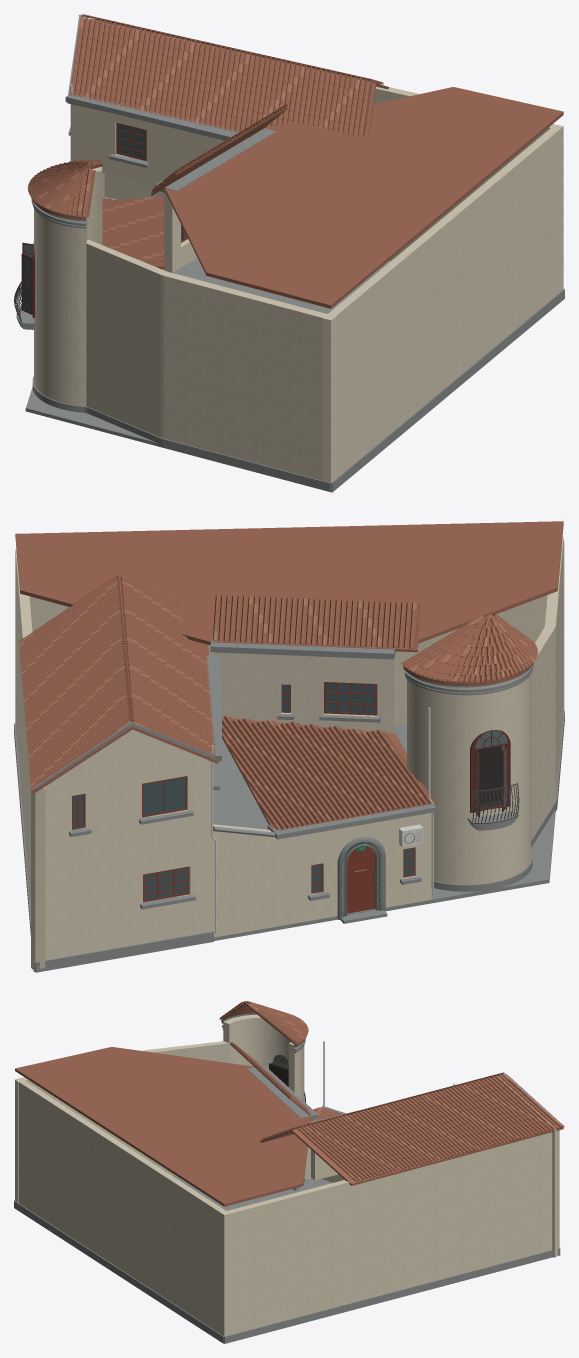
The model's file is lod-source.glb.
3 views of the same model, one above another, from view 1: azimuth 30°, elevation 25°; view 2: azimuth 150°, elevation 25°; view 3: azimuth 270°, elevation 25° (orthographic). The views are drawn at different scales.
Parts seen in each view (by area): view 1: 武康路129号德利那齐宅; view 2: 武康路129号德利那齐宅; view 3: 武康路129号德利那齐宅.
Part boxes in pixels (x1=…): 武康路129号德利那齐宅: x1=14, y1=14, x2=564, y2=492; 武康路129号德利那齐宅: x1=14, y1=521, x2=564, y2=972; 武康路129号德利那齐宅: x1=14, y1=1001, x2=564, y2=1343.
Bounding box in the file's own units: 16.38 × 7.03 × 20.15.
14 materials, 4 textured.
